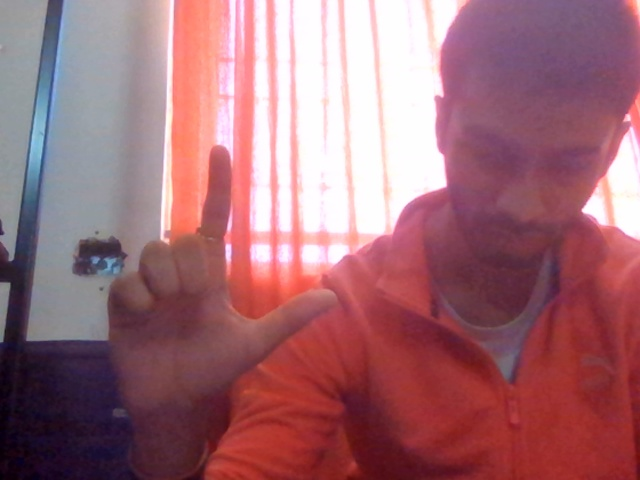L: (73, 108, 338, 480)
